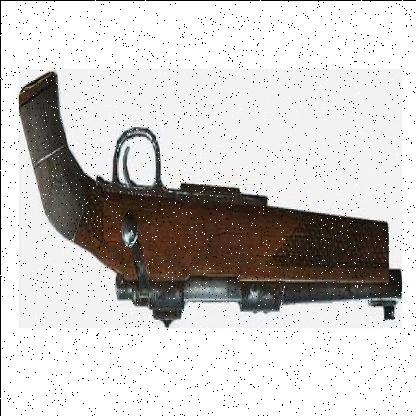rifle: (11, 54, 405, 344)
